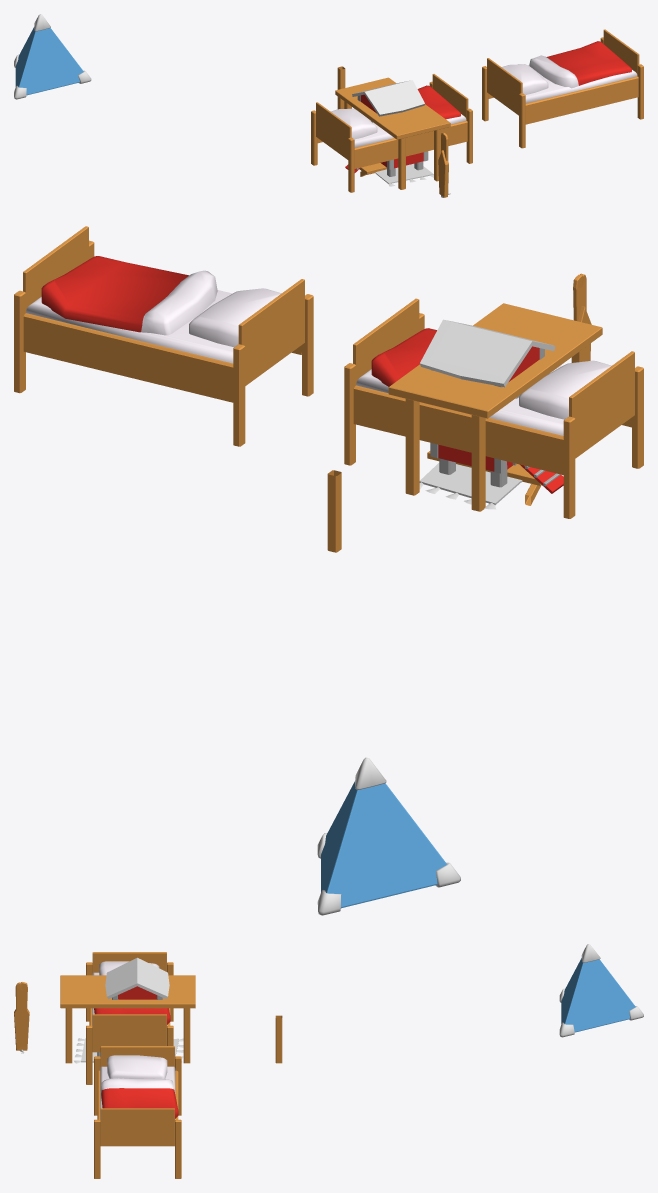
Rendered from env_carpet.fbx.
3 renders of one model, top to bottom at view 1: azimuth 30°, elevation 25°; view 2: azimuth 150°, elevation 25°; view 3: azimuth 270°, elevation 25°, orthographic. The views are drawn at different scales.
Parts seen in each view (by area): view 1: env_bed.001, env_bed, Pyramid.001, env_table, env_chickencoop, env_carpet, env_plank02.001, env_bed.006; view 2: env_bed.001, env_bed, Pyramid.001, env_table, env_chickencoop, env_carpet, env_bed.006; view 3: env_bed.001, env_bed, Pyramid.001, env_table, env_chickencoop, env_plank01.001, env_plank02.001, env_bed.006, env_carpet.
Part boxes in pixels (x1,y1,x2,y2): env_bed.001: (482,29,643,148); env_bed: (311,74,472,192); Pyramid.001: (14,14,91,99); env_table: (335,77,450,189); env_chickencoop: (345,80,428,176); env_carpet: (375,163,433,186); env_plank02.001: (438,150,448,197); env_bed.006: (337,66,345,109); env_bed.001: (14,226,313,446); env_bed: (344,298,643,518); Pyramid.001: (317,757,460,915); env_table: (388,303,602,511); env_chickencoop: (420,319,563,493); env_carpet: (419,463,522,509); env_bed.006: (327,470,341,552); env_bed.001: (94,1046,181,1178); env_bed: (86,952,173,1084); Pyramid.001: (559,944,643,1037); env_table: (60,975,195,1063); env_chickencoop: (97,957,169,1056); env_plank01.001: (15,982,27,1050); env_plank02.001: (14,1009,29,1050); env_bed.006: (275,1015,282,1063); env_carpet: (74,1038,183,1063).
Bounding box in the file's own units: 656 × 170 × 789.
